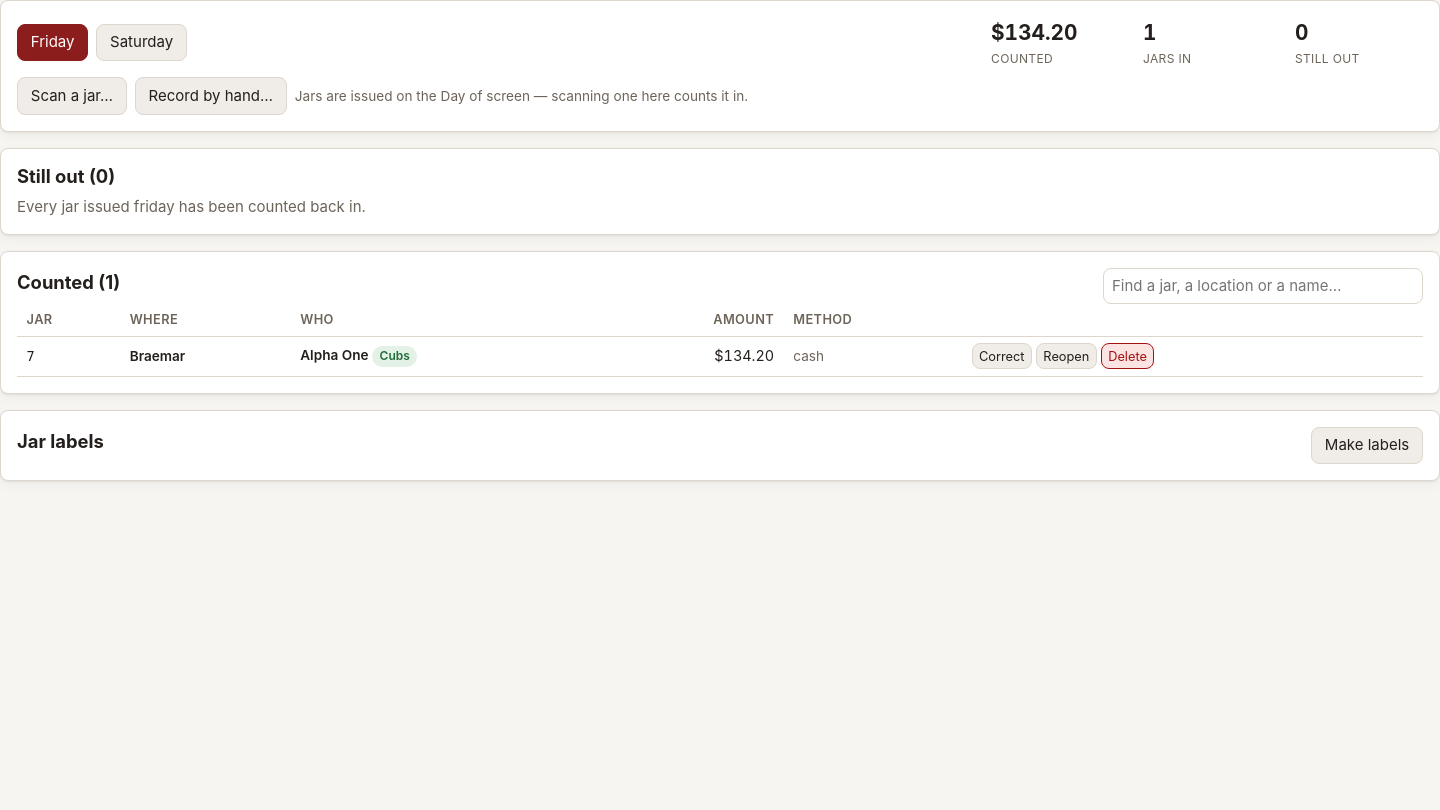
Test: reopening a counted jar › asks first, because the counted amount is cleared
This screenshot has width=1440, height=810.
Click the button "Reopen" at (1066, 356), box [1036,343,1097,369]
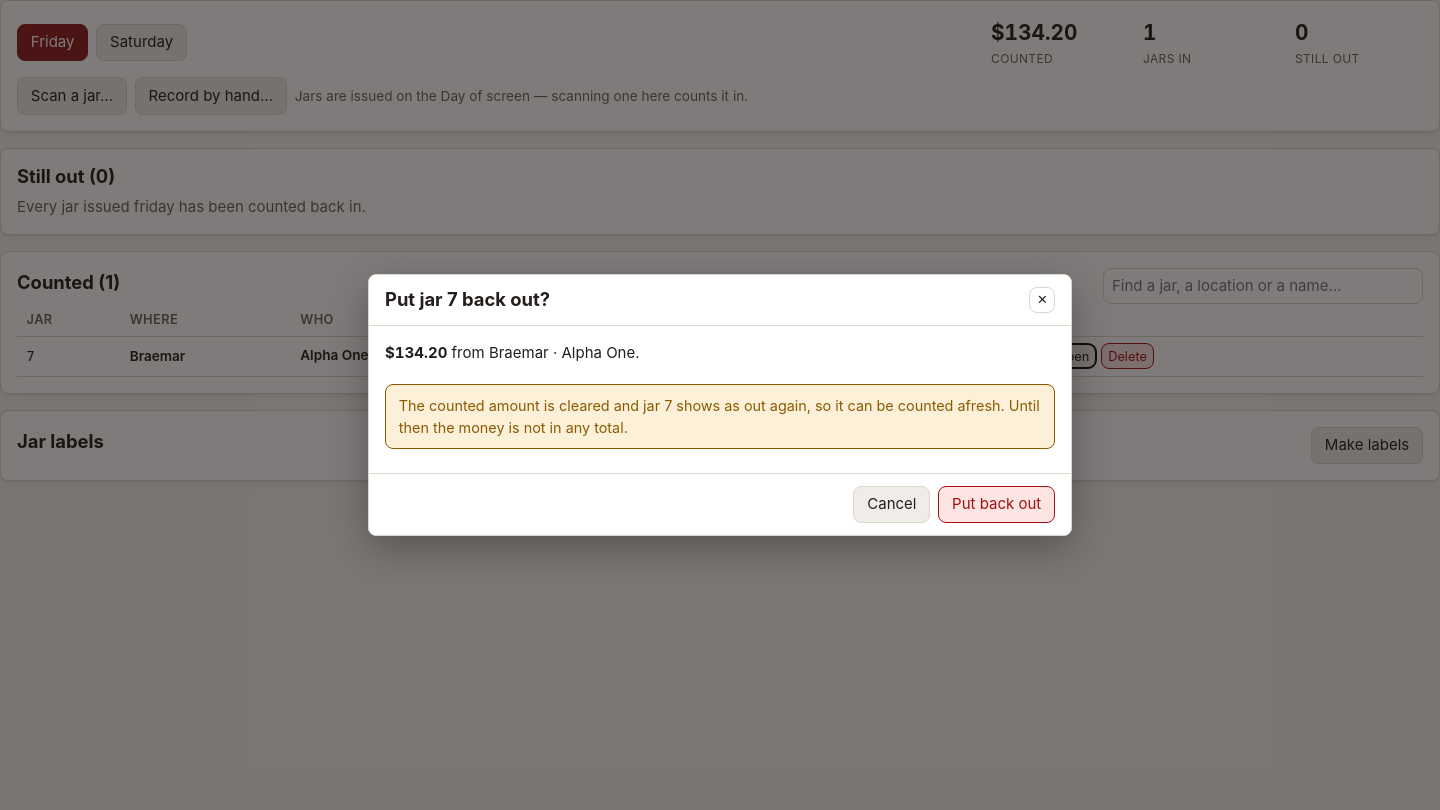
Check: the heading "Put jar 7 back out?" is shown, box [385,288,550,310]
Check: the text "counted amount is cleared" is shown, box [399,397,643,414]
